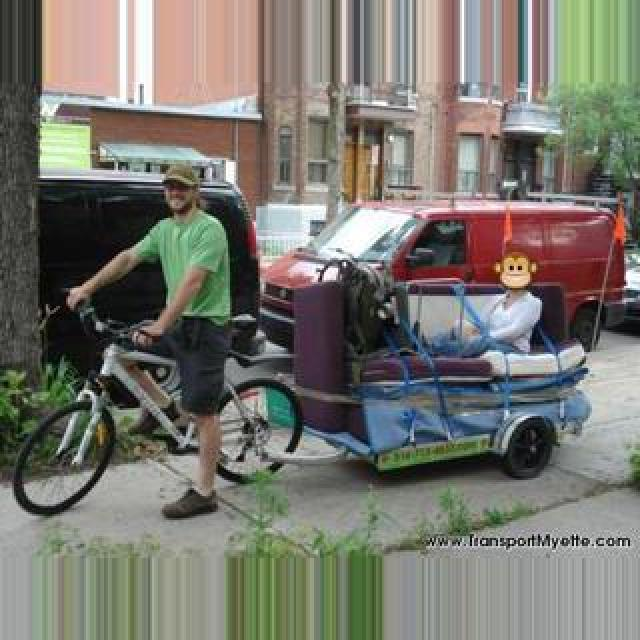MC-Bike: (64, 160, 252, 524)
Person: (10, 300, 314, 520)
Person-Bike: (290, 198, 626, 358)
